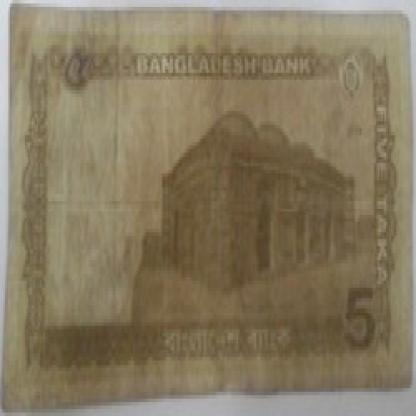Five Taka: (371, 90, 399, 291), (340, 274, 381, 364), (60, 42, 91, 94)
